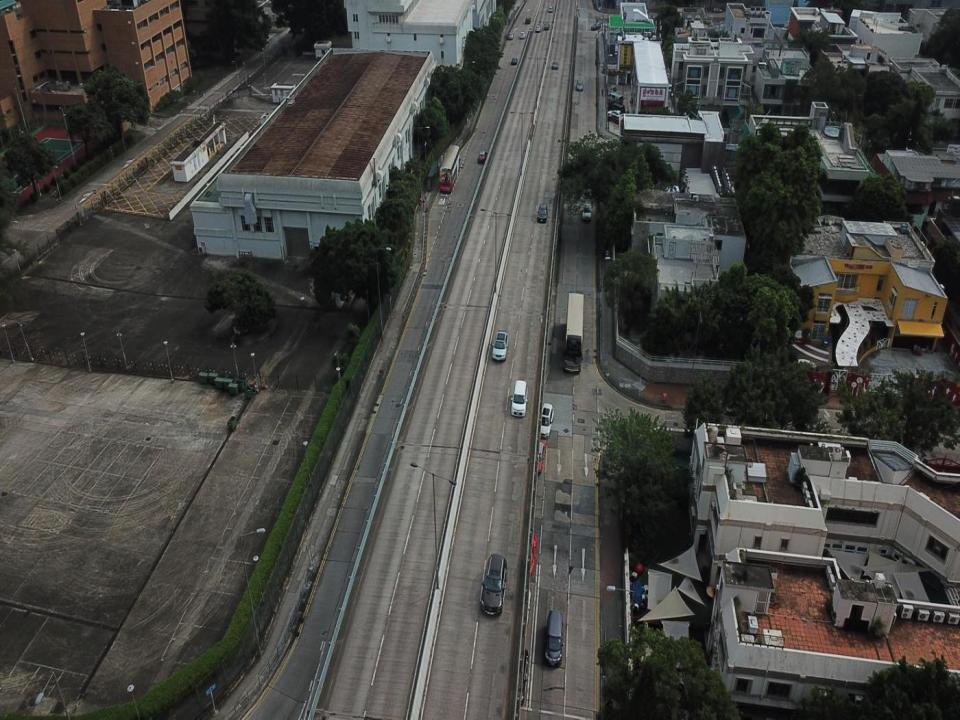bus: (564, 292, 585, 374), (440, 144, 460, 194)
car: (480, 554, 507, 616), (537, 403, 554, 439), (491, 329, 509, 362), (533, 439, 546, 474), (608, 108, 624, 122), (537, 202, 547, 223), (582, 202, 592, 219), (591, 21, 606, 32), (476, 149, 484, 162), (550, 60, 560, 70), (577, 78, 582, 92), (507, 31, 514, 40), (511, 56, 517, 66), (520, 30, 525, 40), (535, 25, 541, 33), (544, 21, 549, 30), (525, 16, 531, 23), (548, 5, 552, 11)
van: (545, 610, 564, 667), (511, 379, 527, 419), (608, 102, 624, 115), (607, 93, 623, 106)
